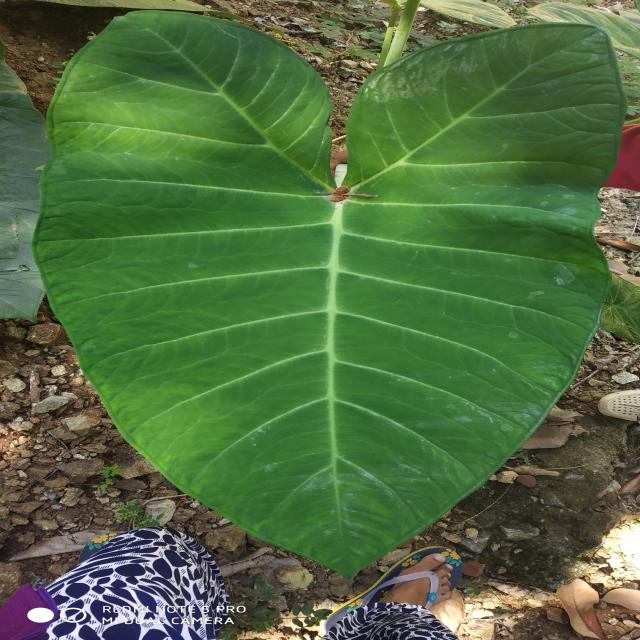taro: (33, 11, 624, 575), (0, 60, 51, 228)
